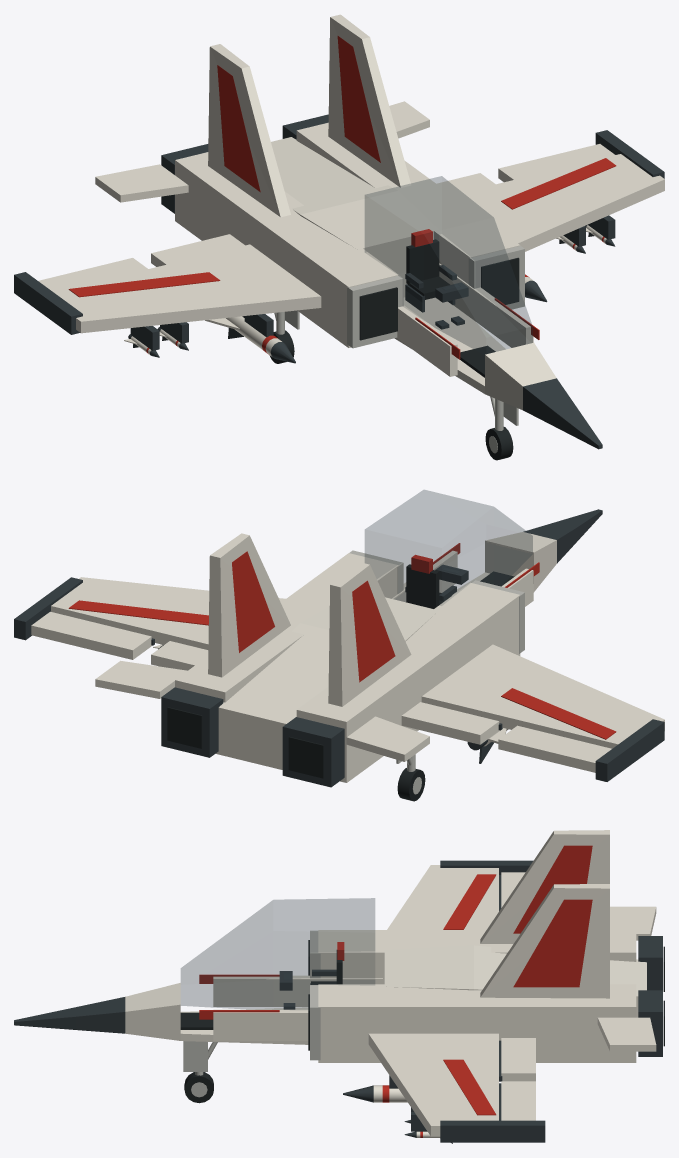
3 views of the same model, one above another, from view 1: azimuth 30°, elevation 25°; view 2: azimuth 150°, elevation 25°; view 3: azimuth 270°, elevation 25° (orthographic). The views are drawn at different scales.
Visible parts, largest first — view 1: jet-a-fleet-armor, jet-a-fleet-glass, jet-a-fleet-machine, jet-a-fleet-red, jet-a-fleet-rubber, crew-chair-pilot-painted, jet-a-fleet-edge, elevator-left-fleet-armor, aileron-right-painted, aileron-left-painted, flap-left-painted, store-left-large-painted (+3 smaller); view 2: jet-a-fleet-armor, jet-a-fleet-glass, jet-a-fleet-machine, jet-a-fleet-red, aileron-right-painted, aileron-left-painted, jet-a-fleet-rubber, flap-left-painted, elevator-left-fleet-armor, elevator-right-fleet-armor, crew-chair-pilot-painted, flap-right-painted (+2 smaller); view 3: jet-a-fleet-armor, jet-a-fleet-glass, jet-a-fleet-red, jet-a-fleet-machine, elevator-right-fleet-armor, flap-right-painted, aileron-right-painted, jet-a-fleet-edge, elevator-left-fleet-armor, crew-chair-pilot-painted, landing-gear-nose-fleet-edge, jet-a-fleet-rubber (+3 smaller).
Boxes of the visible parts, bbox=[...] form: jet-a-fleet-armor: bbox=[54, 14, 664, 410]; jet-a-fleet-glass: bbox=[365, 176, 532, 354]; jet-a-fleet-machine: bbox=[14, 114, 664, 449]; jet-a-fleet-red: bbox=[68, 36, 616, 359]; jet-a-fleet-rubber: bbox=[359, 257, 519, 377]; crew-chair-pilot-painted: bbox=[405, 229, 468, 329]; jet-a-fleet-edge: bbox=[347, 246, 524, 348]; elevator-left-fleet-armor: bbox=[95, 164, 188, 202]; aileron-right-painted: bbox=[498, 144, 614, 182]; aileron-left-painted: bbox=[38, 258, 147, 292]; flap-left-painted: bbox=[151, 234, 244, 266]; store-left-large-painted: bbox=[205, 316, 295, 363]; jet-a-fleet-armor: bbox=[51, 532, 664, 782]; jet-a-fleet-glass: bbox=[365, 490, 532, 608]; jet-a-fleet-machine: bbox=[14, 509, 664, 787]; jet-a-fleet-red: bbox=[68, 543, 616, 739]; aileron-right-painted: bbox=[31, 611, 154, 659]; aileron-left-painted: bbox=[498, 725, 611, 772]; jet-a-fleet-rubber: bbox=[167, 571, 514, 778]; flap-left-painted: bbox=[401, 702, 502, 744]; elevator-left-fleet-armor: bbox=[346, 716, 429, 761]; elevator-right-fleet-armor: bbox=[95, 660, 187, 698]; crew-chair-pilot-painted: bbox=[405, 554, 468, 608]; flap-right-painted: bbox=[151, 641, 208, 670]; jet-a-fleet-armor: bbox=[125, 830, 646, 1136]; jet-a-fleet-glass: bbox=[181, 898, 374, 1009]; jet-a-fleet-red: bbox=[199, 845, 592, 1115]; jet-a-fleet-machine: bbox=[14, 860, 662, 1142]; elevator-right-fleet-armor: bbox=[597, 1017, 656, 1051]; flap-right-painted: bbox=[499, 1038, 535, 1081]; aileron-right-painted: bbox=[499, 1081, 535, 1120]; jet-a-fleet-edge: bbox=[310, 930, 320, 1060]; elevator-left-fleet-armor: bbox=[610, 906, 656, 940]; crew-chair-pilot-painted: bbox=[279, 942, 344, 1009]; landing-gear-nose-fleet-edge: bbox=[183, 1041, 217, 1075]; jet-a-fleet-rubber: bbox=[180, 940, 664, 1050].
Bounding box in the file's own units: 59.87 × 25.4 × 62.11.
